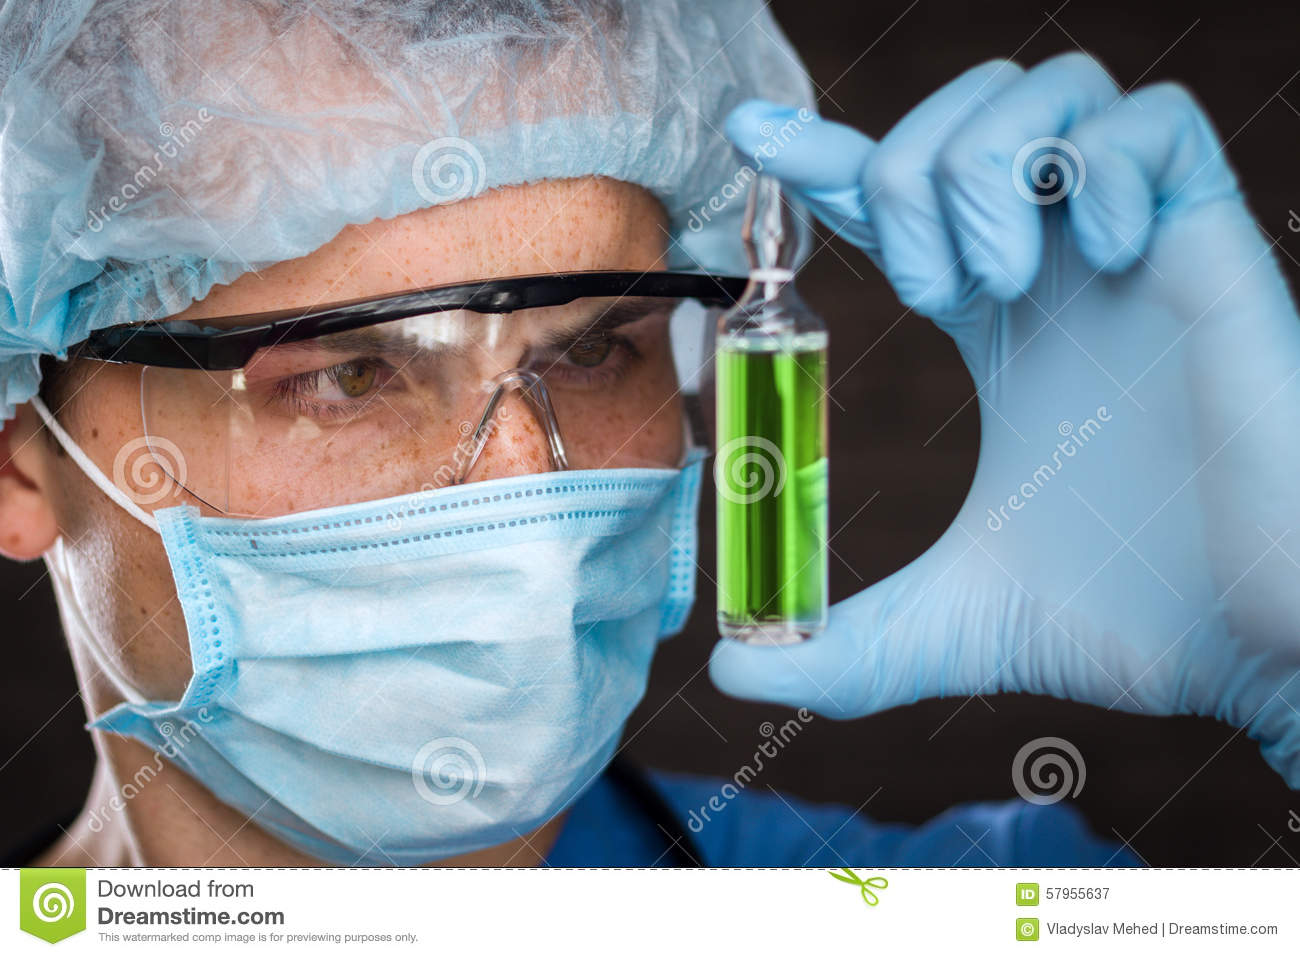mask: (108, 480, 711, 867)
